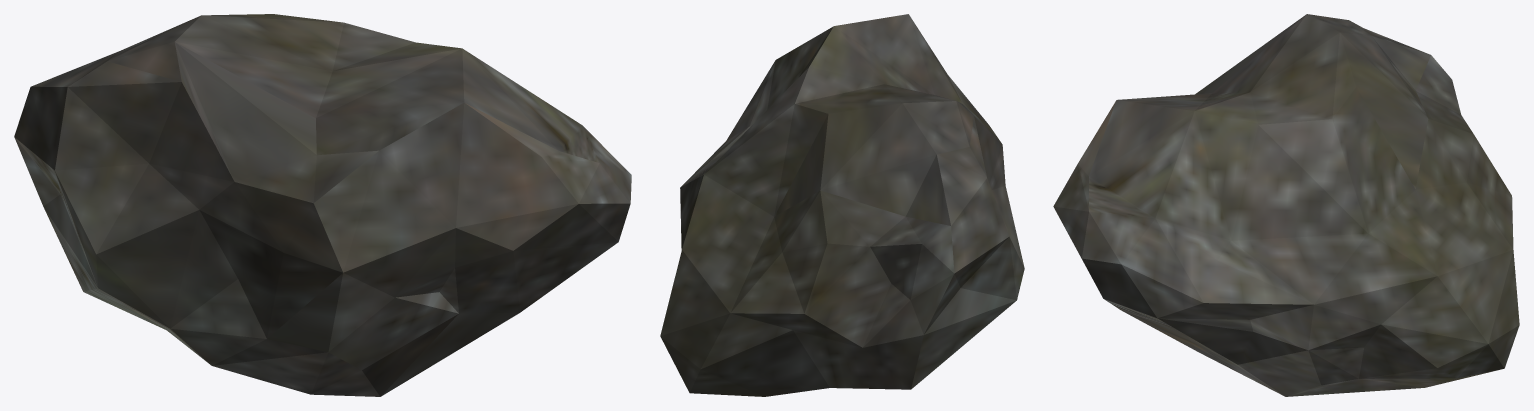
The model's file is rock2.gltf.
3 views of the same model, side by side, from view 1: azimuth 30°, elevation 25°; view 2: azimuth 150°, elevation 25°; view 3: azimuth 270°, elevation 25° (orthographic). The views are drawn at different scales.
Visible parts, largest first — view 1: rock2; view 2: rock2; view 3: rock2.
Boxes of the visible parts, x1=… form: rock2: x1=14, y1=14, x2=631, y2=396; rock2: x1=660, y1=14, x2=1024, y2=396; rock2: x1=1053, y1=14, x2=1519, y2=396.
Size of the model in its own units: 3.26 by 2.49 by 3.62.
Materials: 1 (1 with a texture image).
